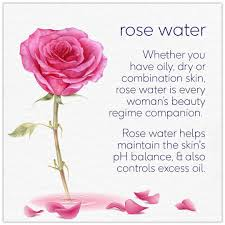rose: (19, 21, 109, 98)
